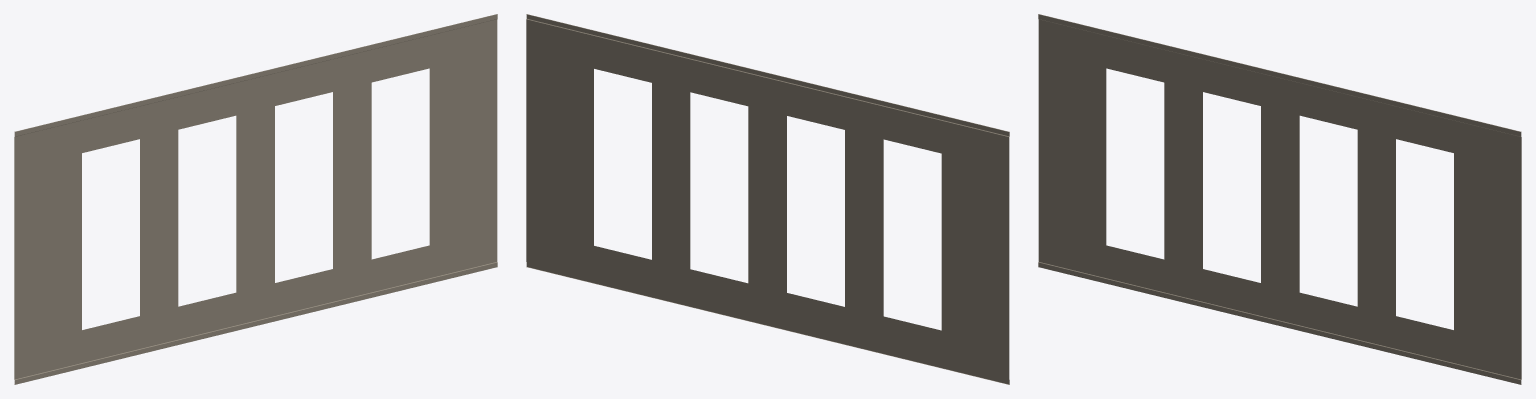
The model's file is Wall_10x5_4Window_UniformSize.fbx.
3 renders of one model, left to right at view 1: azimuth 30°, elevation 25°; view 2: azimuth 150°, elevation 25°; view 3: azimuth 330°, elevation 25°, orthographic.
Visible parts, largest first — view 1: Wall_10x5_4Window_UniformSize; view 2: Wall_10x5_4Window_UniformSize; view 3: Wall_10x5_4Window_UniformSize.
Boxes of the visible parts, bbox=[...] form: Wall_10x5_4Window_UniformSize: bbox=[14, 14, 497, 384]; Wall_10x5_4Window_UniformSize: bbox=[526, 14, 1009, 384]; Wall_10x5_4Window_UniformSize: bbox=[1038, 14, 1521, 384].
Size of the model in its own units: 10 by 5 by 0.015.
